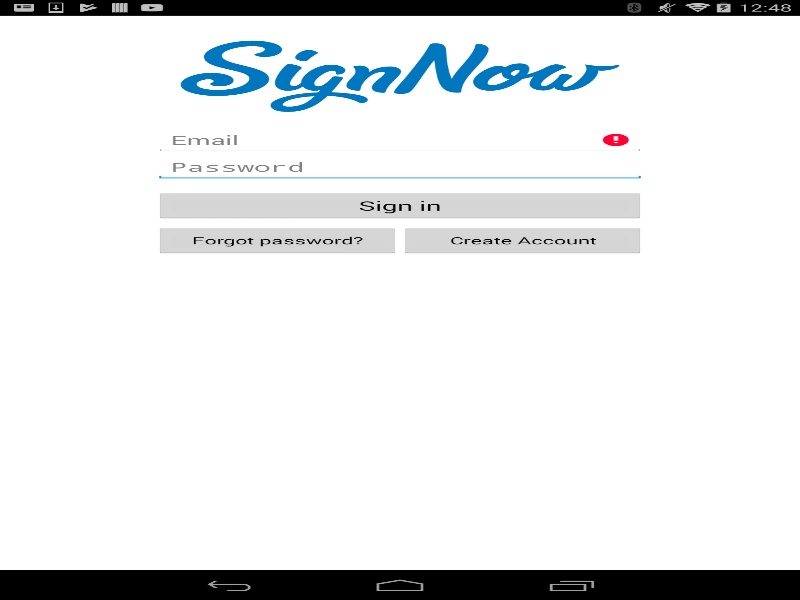Button: (154, 190, 645, 220), (154, 225, 400, 255), (400, 225, 645, 255)
Input: (154, 126, 645, 153), (154, 153, 645, 180)
